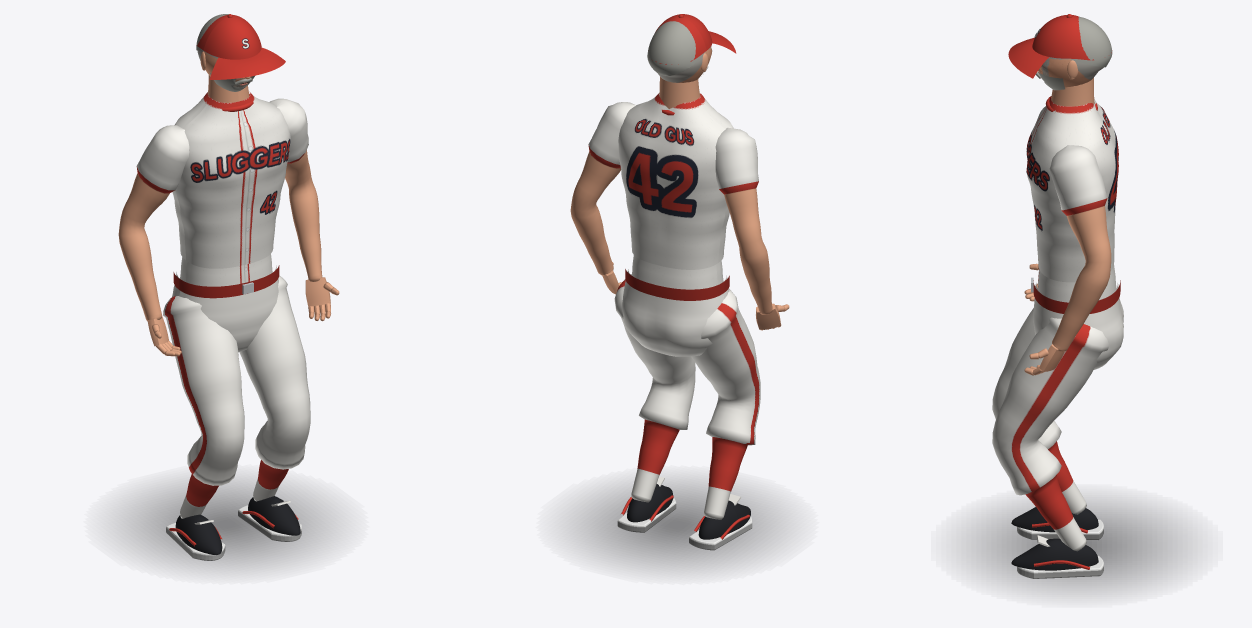
Rendered from player_17_home.glb.
3 views of the same model, side by side, from view 1: azimuth 30°, elevation 25°; view 2: azimuth 150°, elevation 25°; view 3: azimuth 270°, elevation 25° (orthographic). The views are drawn at different scales.
Visible parts, largest first — view 1: player_17_home, object 32, object 34, object 2; view 2: player_17_home, object 29, object 2, object 32; view 3: player_17_home, object 32, object 29, object 36, object 34, object 2.
Boxes of the visible parts, <box> form: player_17_home: <box>117,91,334,570</box>; object 32: <box>196,14,261,59</box>; object 34: <box>209,47,285,79</box>; object 2: <box>208,75,249,102</box>; player_17_home: <box>569,93,785,570</box>; object 29: <box>647,21,711,76</box>; object 2: <box>659,77,700,108</box>; object 32: <box>652,14,712,64</box>; player_17_home: <box>966,96,1187,592</box>; object 32: <box>1032,14,1112,60</box>; object 29: <box>1049,16,1112,67</box>; object 36: <box>1038,58,1103,87</box>; object 34: <box>1008,37,1049,78</box>; object 2: <box>1051,77,1094,106</box>.
Bounding box in the file's own units: 3.43 × 6.35 × 3.43.
Materials: 26 (5 with a texture image).
